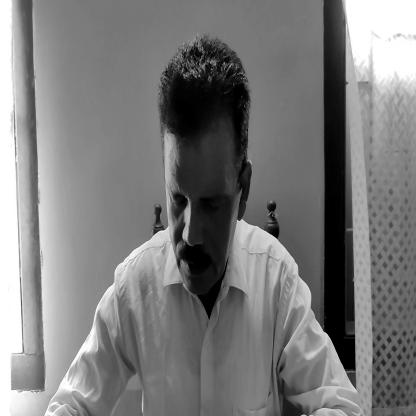Normal: (160, 44, 245, 302)
